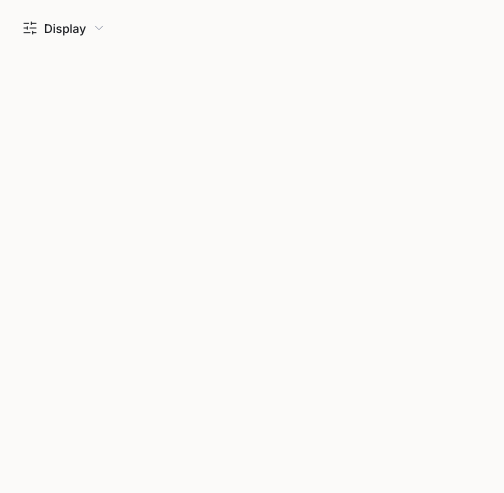
Ordering › is blocked on Buckets, where the timed spine has to stay in time order
Press the mouse on the button with test id "display-trigger-canvas" at [64, 28], box x1=12 y1=12 x2=116 y2=44
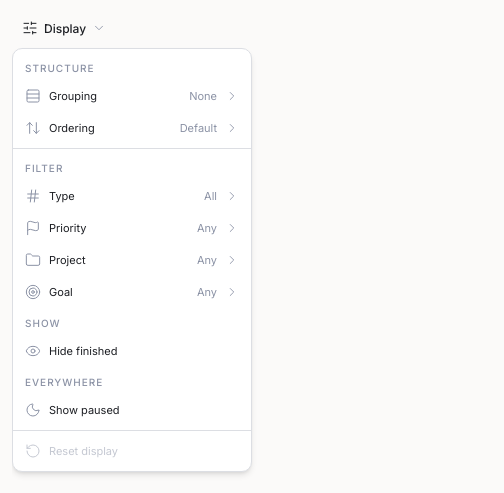
Click the menu item "Ordering Default". click: [72, 128]
box: x1=25 y1=120 x2=239 y2=136
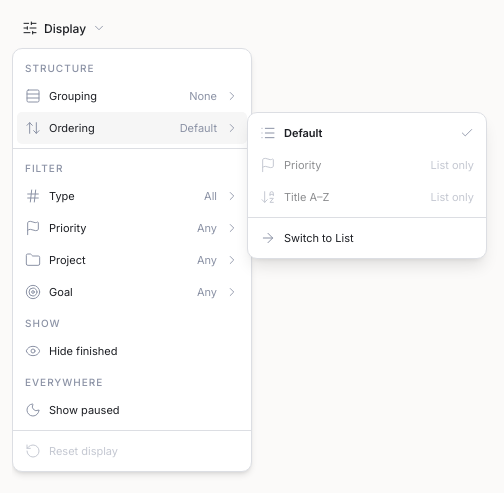
Now the menu item "Title A–Z List only" is shown, box x1=260 y1=189 x2=474 y2=205
